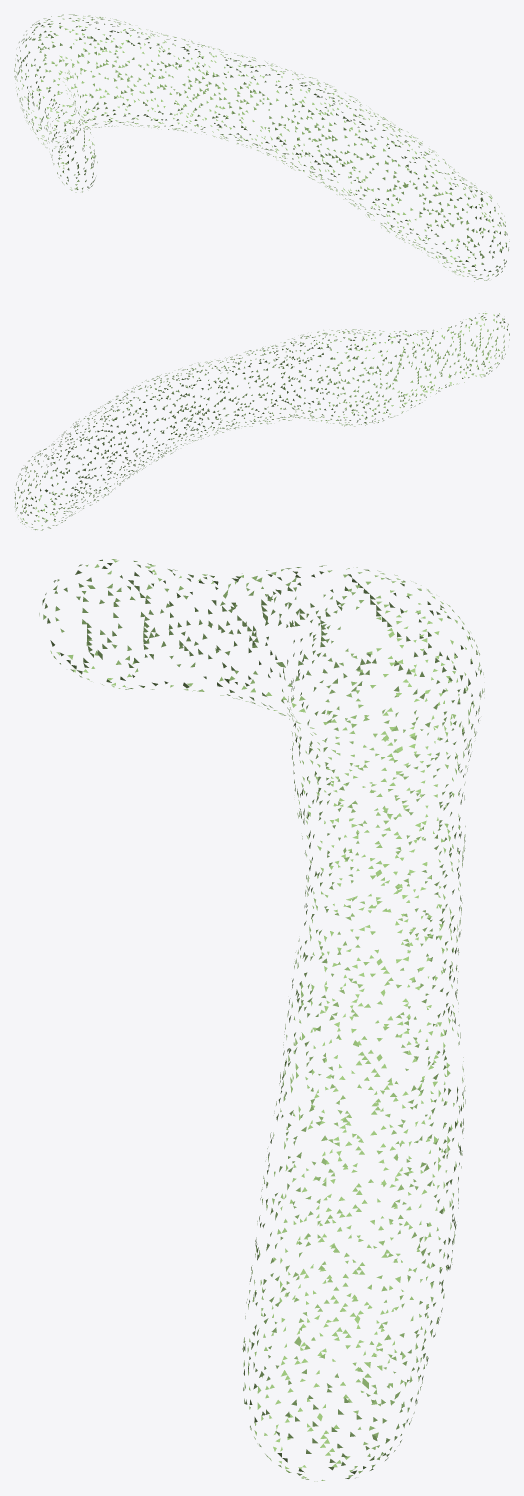
The model's file is morph_013.glb.
3 views of the same model, one above another, from view 1: azimuth 30°, elevation 25°; view 2: azimuth 150°, elevation 25°; view 3: azimuth 270°, elevation 25° (orthographic). The views are drawn at different scales.
Bounding box in the file's own units: 113 × 73.59 × 52.26.
